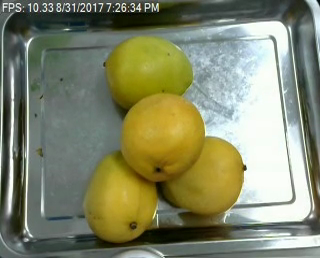Mango: (121, 94, 207, 181), (81, 150, 160, 242), (161, 135, 243, 215), (108, 35, 194, 107)
